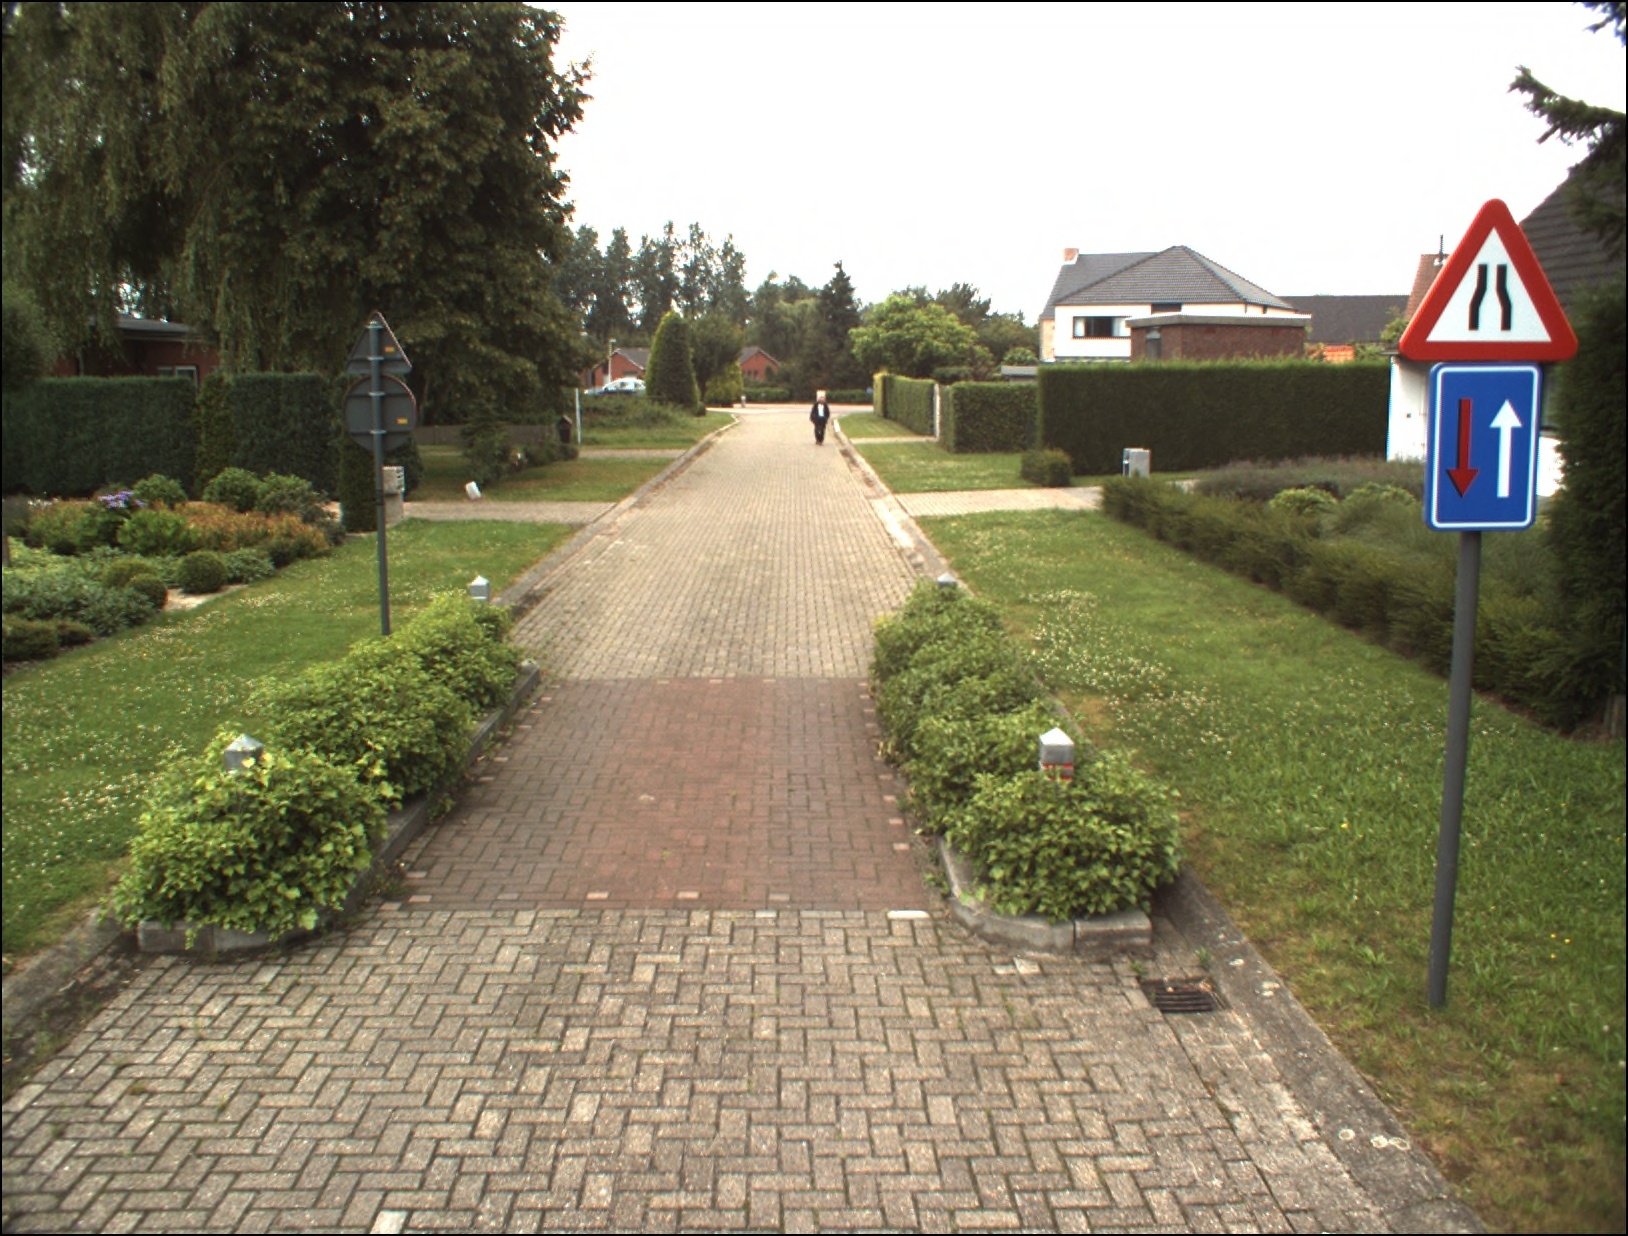roadnarrow1: (1432, 366, 1532, 525)
